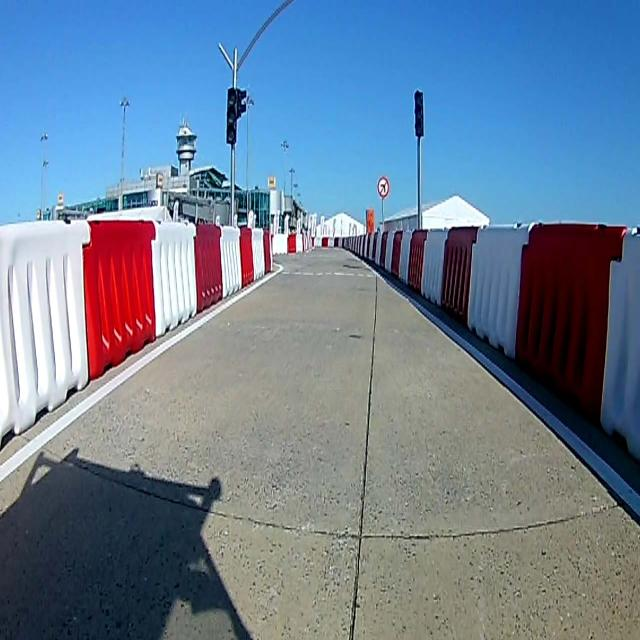soladonulmez: (376, 175, 389, 198)
